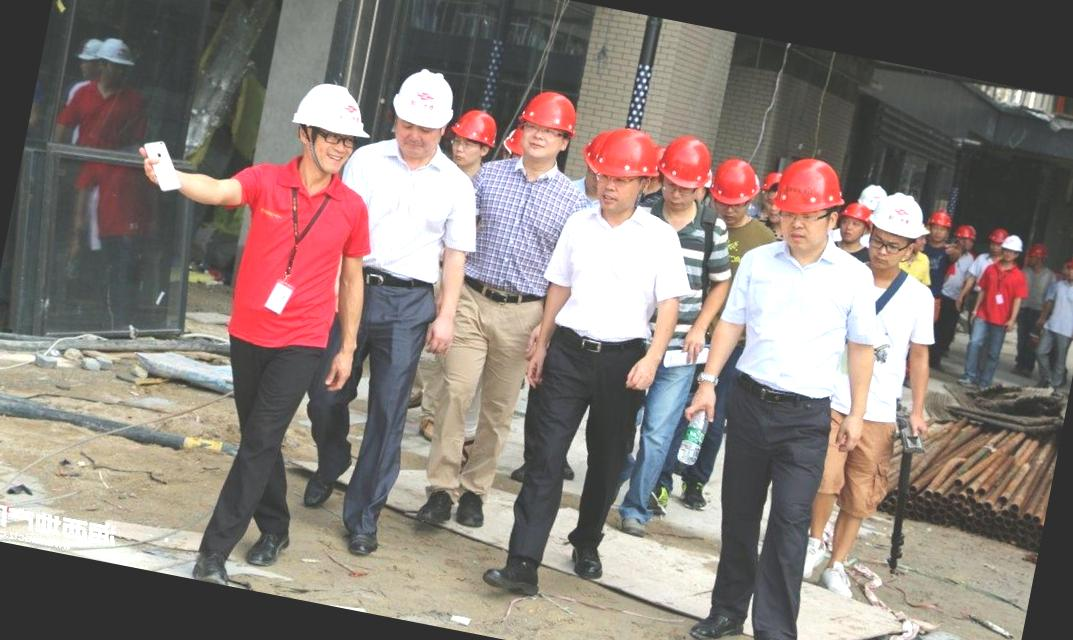helmet: (767, 150, 854, 232), (288, 73, 379, 144), (381, 63, 465, 138), (586, 120, 668, 182), (524, 82, 574, 137)
no_vest: (706, 236, 872, 432), (210, 172, 360, 370), (548, 197, 676, 379), (334, 132, 467, 298)
person: (627, 134, 919, 640), (267, 38, 522, 600), (472, 117, 724, 622), (148, 59, 382, 597), (388, 70, 591, 562)
